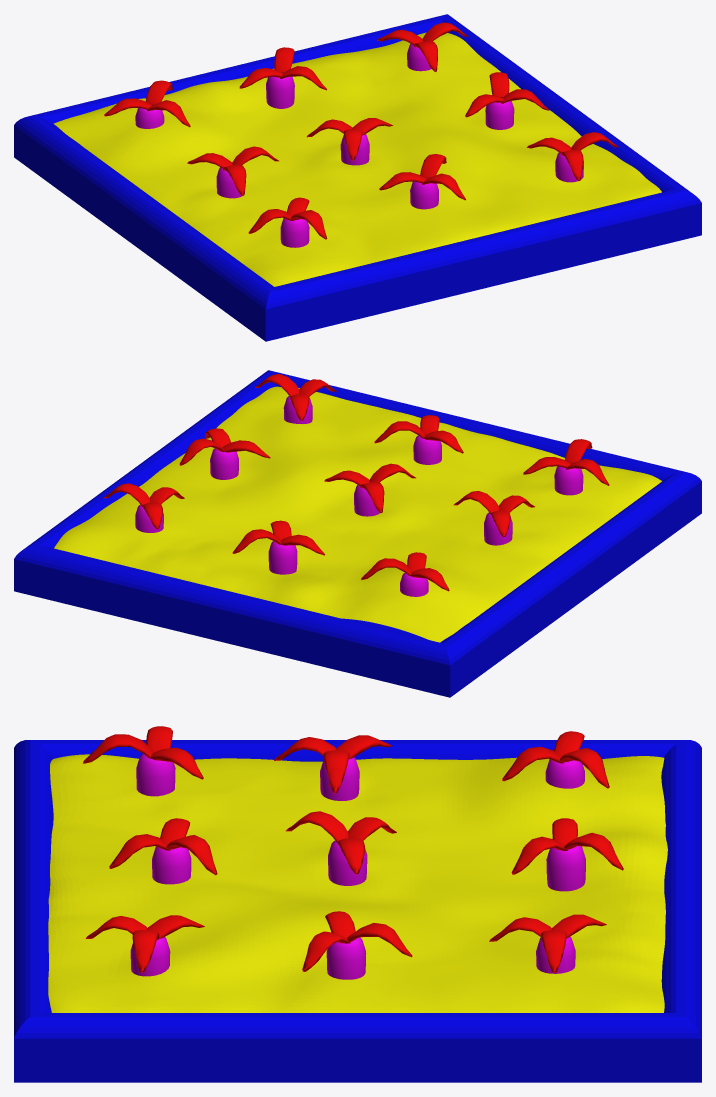
Rendered from Stage_4.fbx.
3 views of the same model, one above another, from view 1: azimuth 30°, elevation 25°; view 2: azimuth 150°, elevation 25°; view 3: azimuth 270°, elevation 25° (orthographic). The views are drawn at different scales.
Visible parts, largest first — view 1: pasted__pasted__Bed_HPdirt, pasted__pasted__baseBed_HP, Base (×7); view 2: pasted__pasted__Bed_HPdirt, pasted__pasted__baseBed_HP, Base (×7); view 3: pasted__pasted__Bed_HPdirt, pasted__pasted__baseBed_HP, Base (×8), Leaf_3 (×8), Leaf_2 (×8), Leaf_1 (×7), Carrot:Base, Carrot:Leaf_3, Carrot:Leaf_2, Carrot:Leaf_1.
Part boxes in pixels (x1,y1,x2,y2): pasted__pasted__Bed_HPdirt: (53, 32, 661, 286); pasted__pasted__baseBed_HP: (14, 14, 701, 341); Base (×7): (135, 76, 514, 247); pasted__pasted__Bed_HPdirt: (54, 386, 661, 642); pasted__pasted__baseBed_HP: (14, 370, 701, 697); Base (×7): (210, 435, 583, 596); pasted__pasted__Bed_HPdirt: (48, 754, 667, 1012); pasted__pasted__baseBed_HP: (14, 740, 701, 1082); Base (×8): (130, 753, 585, 979); Leaf_3 (×8): (83, 734, 623, 972); Leaf_2 (×8): (85, 726, 567, 971); Leaf_1 (×7): (147, 735, 577, 938); Carrot:Base: (536, 937, 575, 973); Carrot:Leaf_3: (541, 930, 566, 972); Carrot:Leaf_2: (489, 917, 551, 941); Carrot:Leaf_1: (551, 914, 606, 937).
Bounding box in the file's own units: 4.24 × 0.9208 × 4.24.
